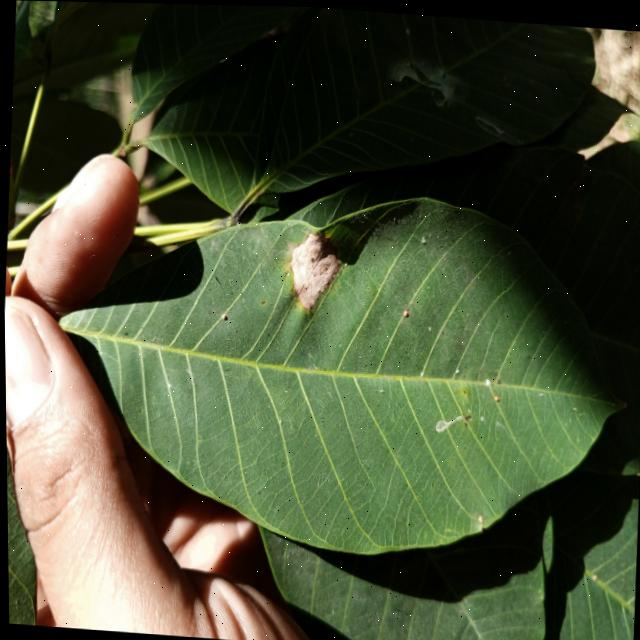Leaf-Blight: (285, 229, 343, 311)
